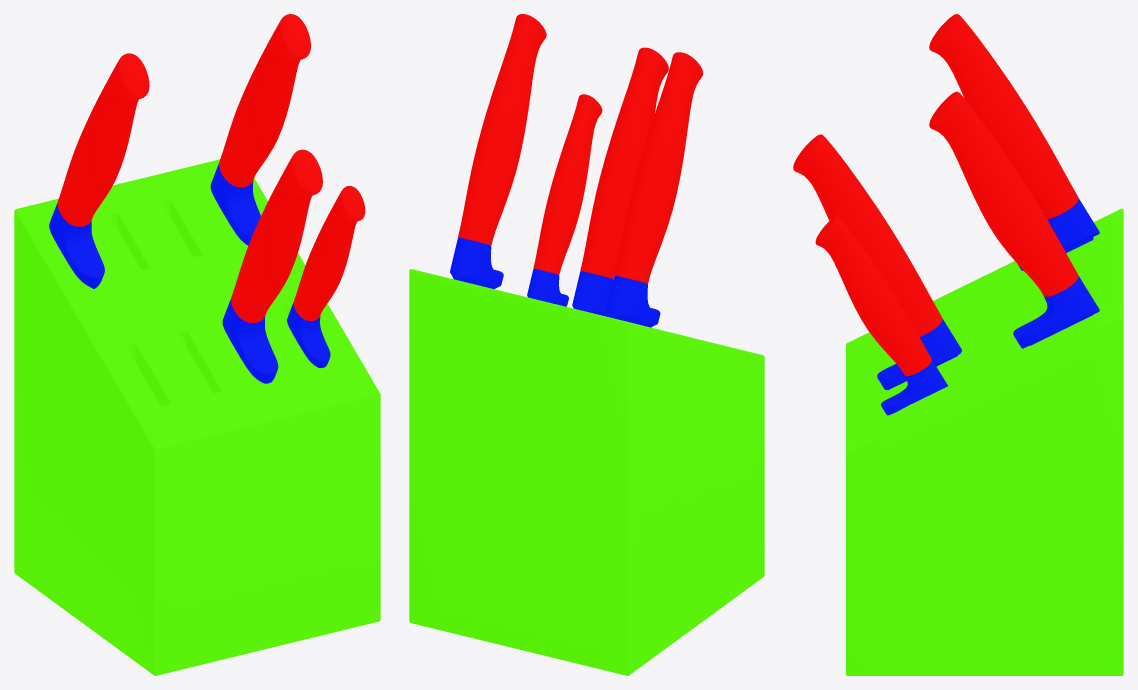
File: KnifeBlock.fbx
The picture shows the model from 3 angles, left to right: view 1: azimuth 30°, elevation 25°; view 2: azimuth 150°, elevation 25°; view 3: azimuth 270°, elevation 25°; orthographic projection. The views are drawn at different scales.
Parts seen in each view (by area): view 1: KnifeBlock; view 2: KnifeBlock; view 3: KnifeBlock.
Part boxes in pixels (<box>): KnifeBlock: <box>14,14,380,675</box>; KnifeBlock: <box>409,14,764,675</box>; KnifeBlock: <box>793,14,1123,675</box>.
Bounding box in the file's own units: 13 × 31.49 × 16.66.
